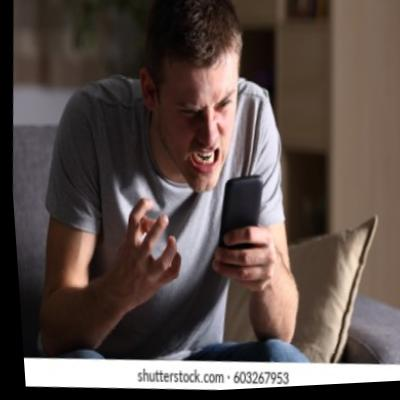angry: (156, 52, 243, 198)
